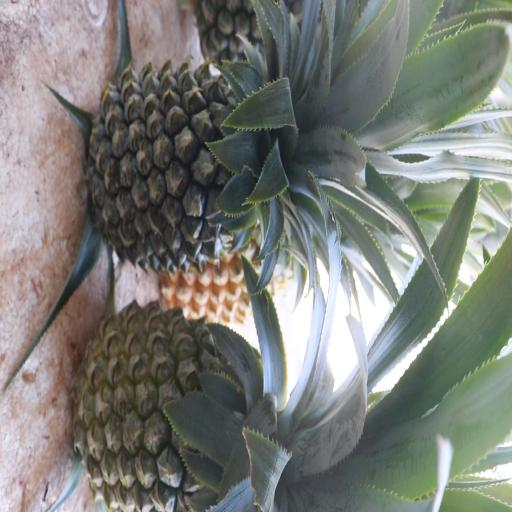------------------------------: (79, 297, 310, 512)
